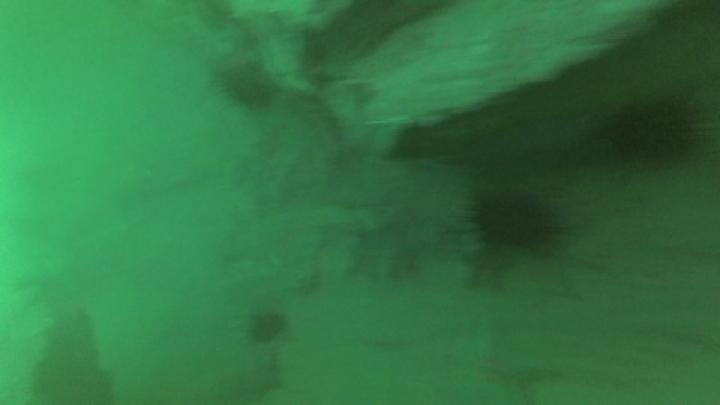echinus: (593, 94, 717, 177), (470, 184, 562, 259)
starfish: (434, 320, 563, 405)
